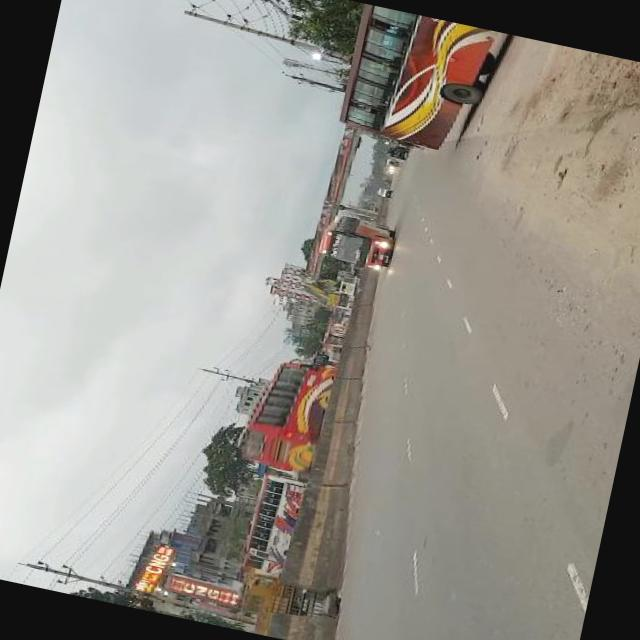bus: (330, 1, 496, 156), (243, 472, 301, 564), (316, 210, 396, 270)
car: (384, 145, 406, 159), (376, 188, 391, 198)
